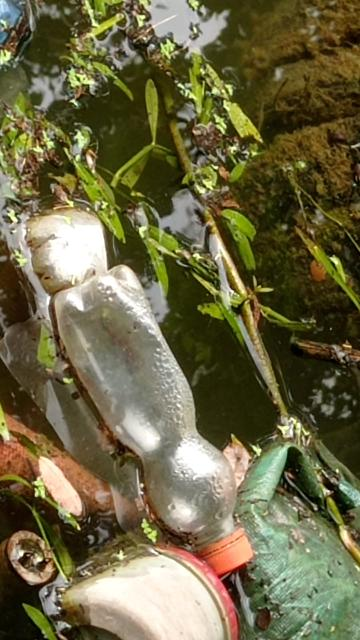bottle: (33, 250, 267, 605)
